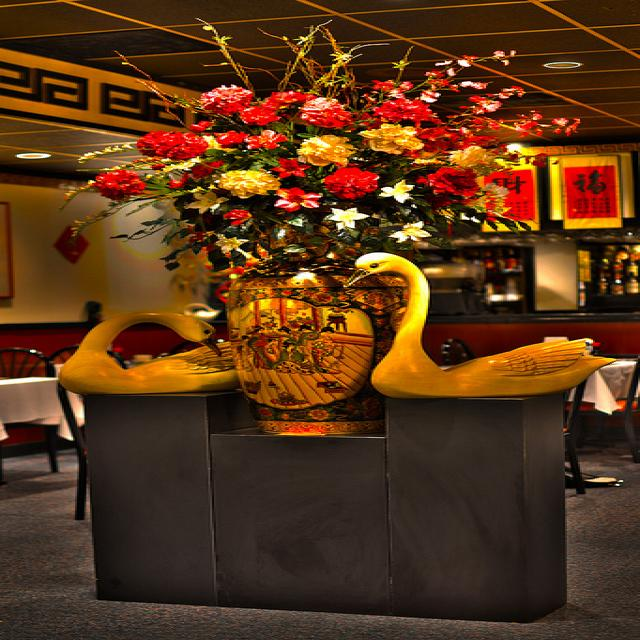chair: (0, 348, 55, 377), (45, 346, 80, 366)
dining table: (0, 374, 67, 427), (602, 361, 635, 369)
